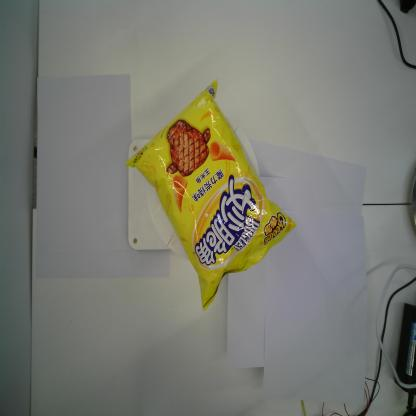Puffed Food: (120, 76, 298, 314)
